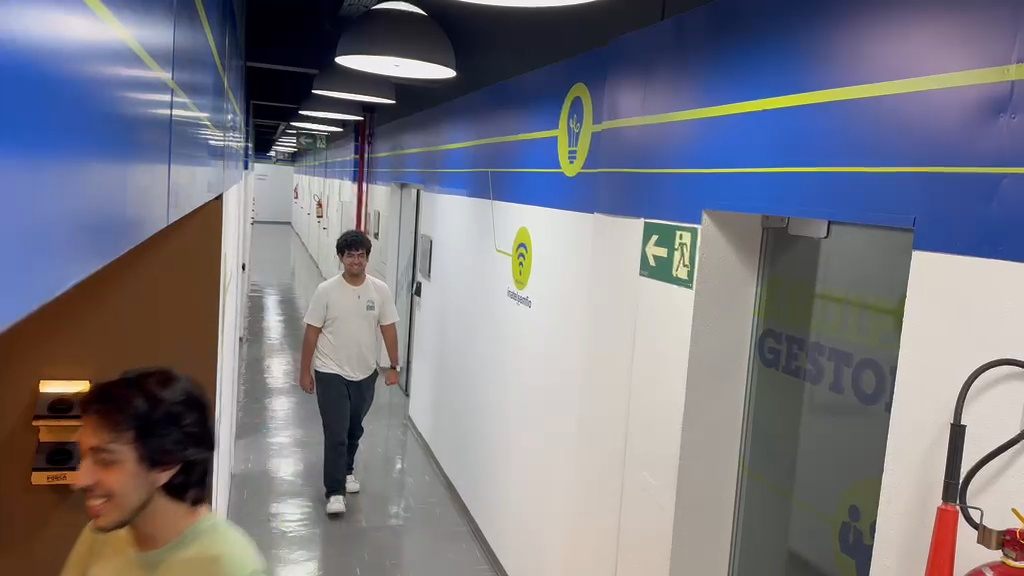person: (57, 368, 269, 572), (298, 231, 400, 517)
